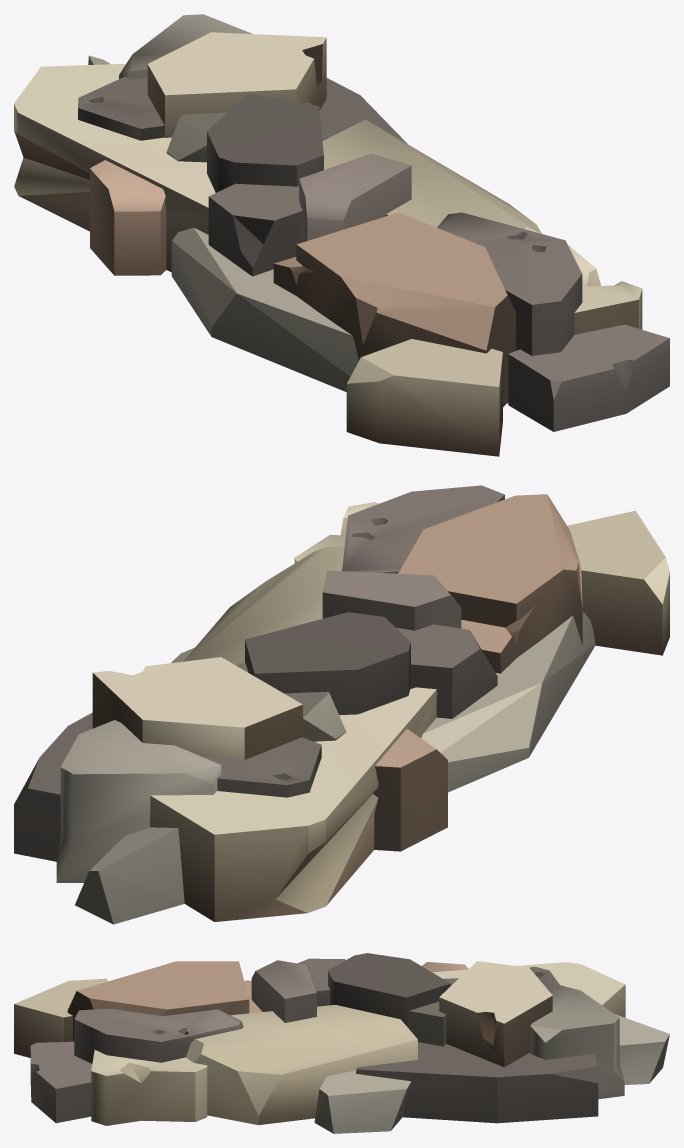
Rendered from Grave_1A.fbx.
3 views of the same model, one above another, from view 1: azimuth 30°, elevation 25°; view 2: azimuth 150°, elevation 25°; view 3: azimuth 270°, elevation 25° (orthographic). The views are drawn at different scales.
Parts seen in each view (by area): view 1: Grave_1A; view 2: Grave_1A; view 3: Grave_1A.
Part boxes in pixels (x1=…): Grave_1A: x1=14, y1=14, x2=669, y2=456; Grave_1A: x1=14, y1=485, x2=669, y2=924; Grave_1A: x1=14, y1=953, x2=669, y2=1133.
Size of the model in its own units: 115 by 44.41 by 274.
